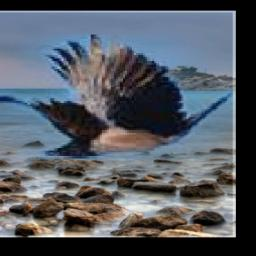Crow: (0, 35, 234, 160)
